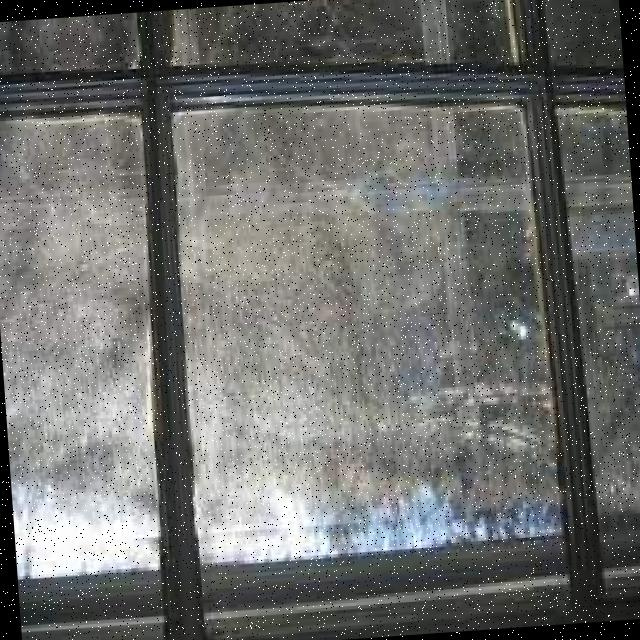Window: (156, 78, 577, 640)
